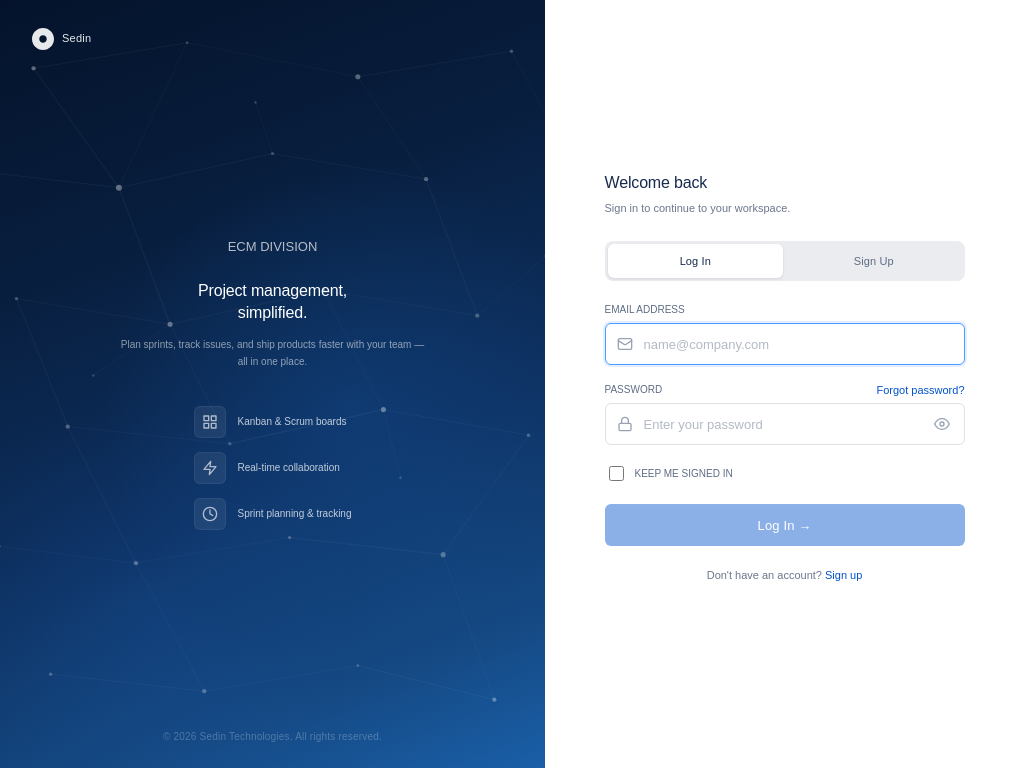
Test: LoginPage social login removal (JL-2) › does not render social login controls on the signup form either
Click the button "Sign Up". click: point(874, 261)
box: [786,244,962,278]
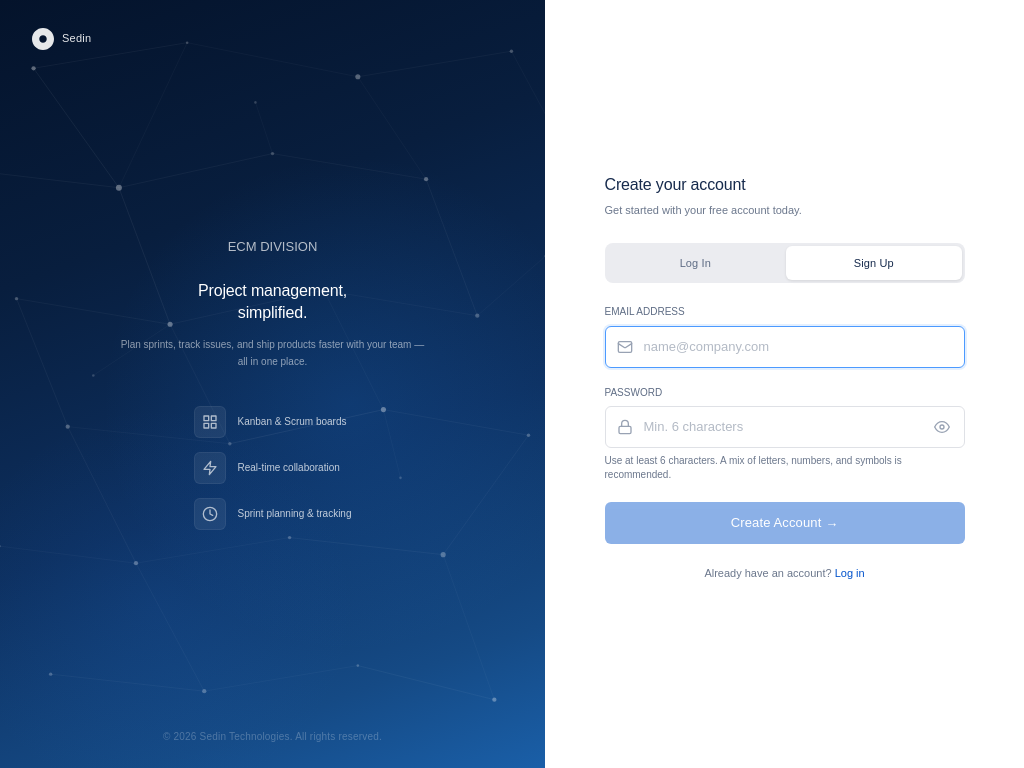
Expected: the field with placeholder "name@company.com" is shown, [604,326,964,368]
Expected: the heading "Create your account" is shown, [604,176,746,193]
Expected: the password field with placeholder "Min. 6 characters" is shown, [604,406,964,448]
